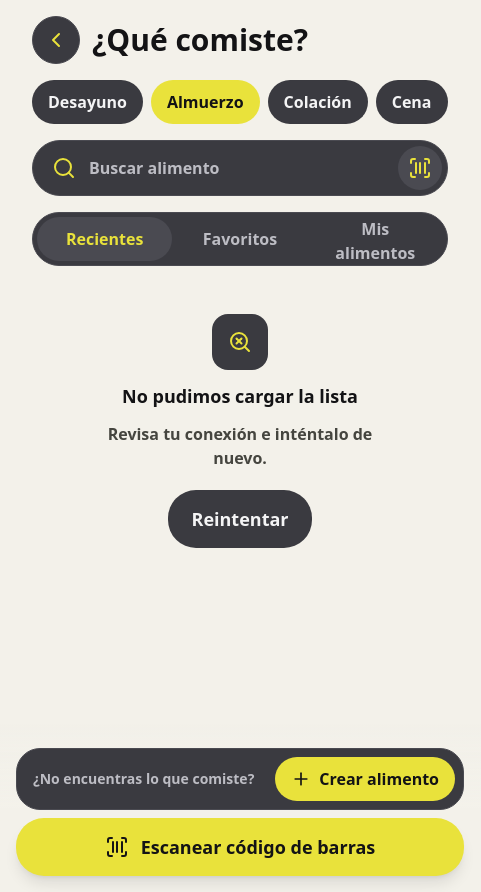
Test case: AddFoodPage › searches once the user stops typing (HU-04 CA3)
Type "huevo" into the search field labelled "Buscar alimento" at [240, 168], box top-left (32, 140), bottom-right (448, 196)
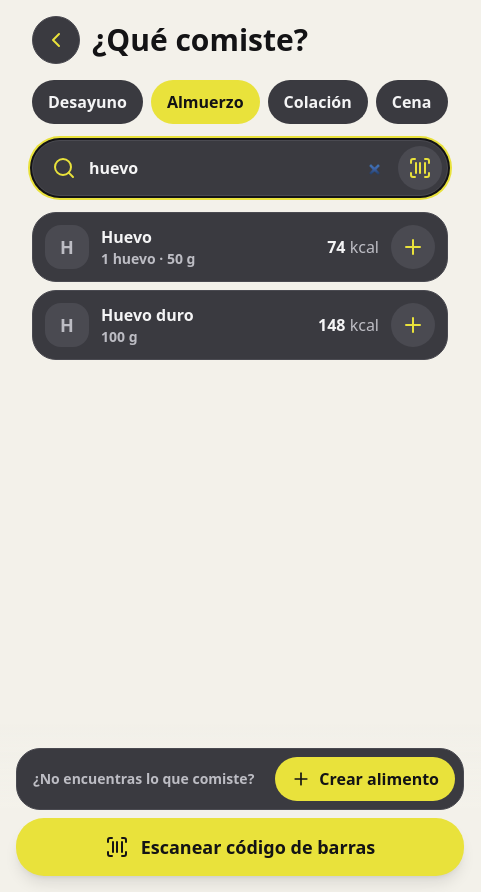
Now the button "H Huevo 1 huevo · 50 g 74 kcal" is shown, box top-left (45, 225), bottom-right (379, 269)
Now the button "H Huevo duro 100 g 148 kcal" is shown, box top-left (45, 303), bottom-right (379, 347)
